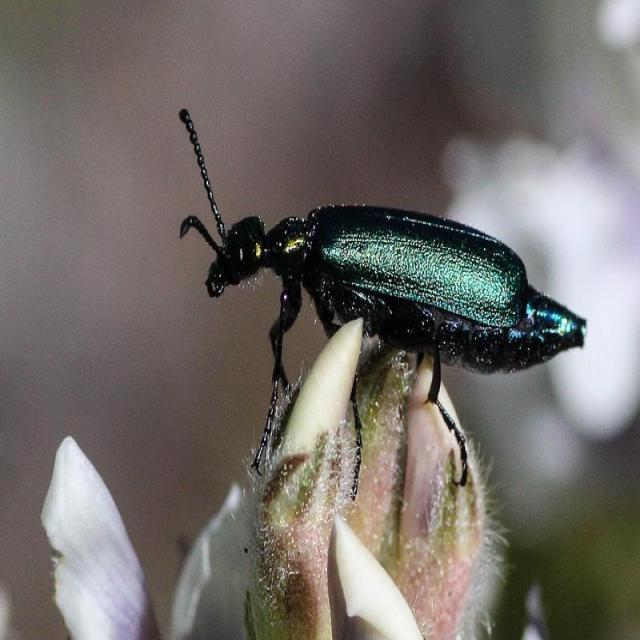BlisterBeetle-Adult-: (169, 106, 596, 512)
